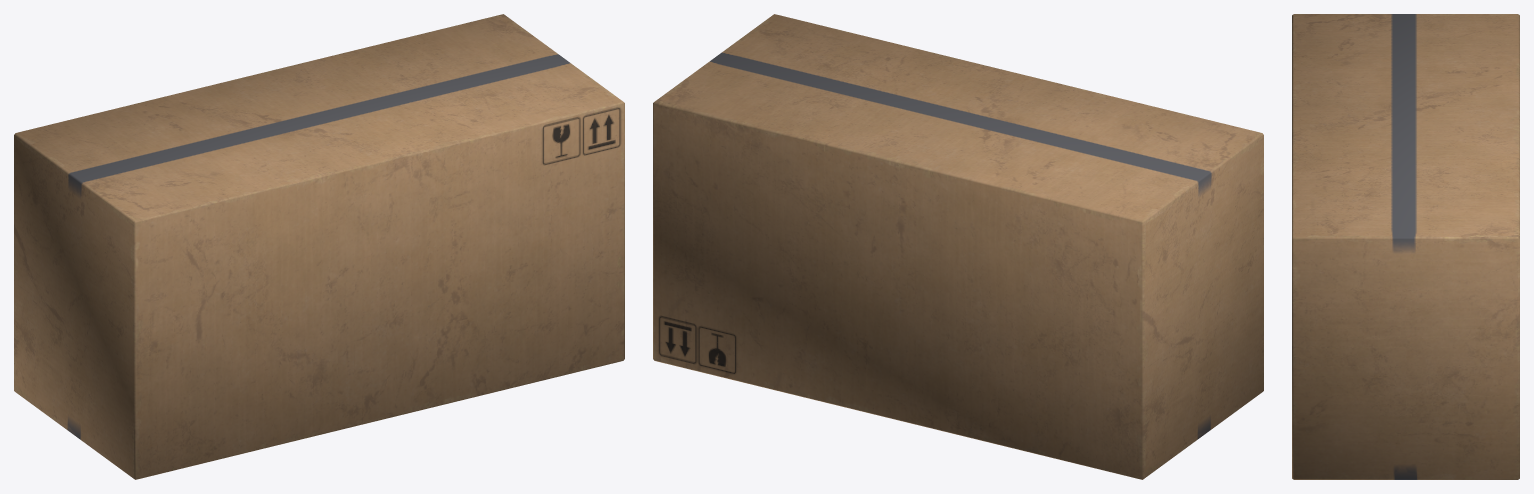
The model's file is bigBox.fbx.
3 views of the same model, side by side, from view 1: azimuth 30°, elevation 25°; view 2: azimuth 150°, elevation 25°; view 3: azimuth 270°, elevation 25° (orthographic). The views are drawn at different scales.
Visible parts, largest first — view 1: big_box; view 2: big_box; view 3: big_box.
Boxes of the visible parts, x1,y1,x2,y2 form: big_box: [14, 14, 624, 479]; big_box: [653, 14, 1263, 479]; big_box: [1292, 14, 1519, 479].
Size of the model in its own units: 2807 by 6548 by 3303.
